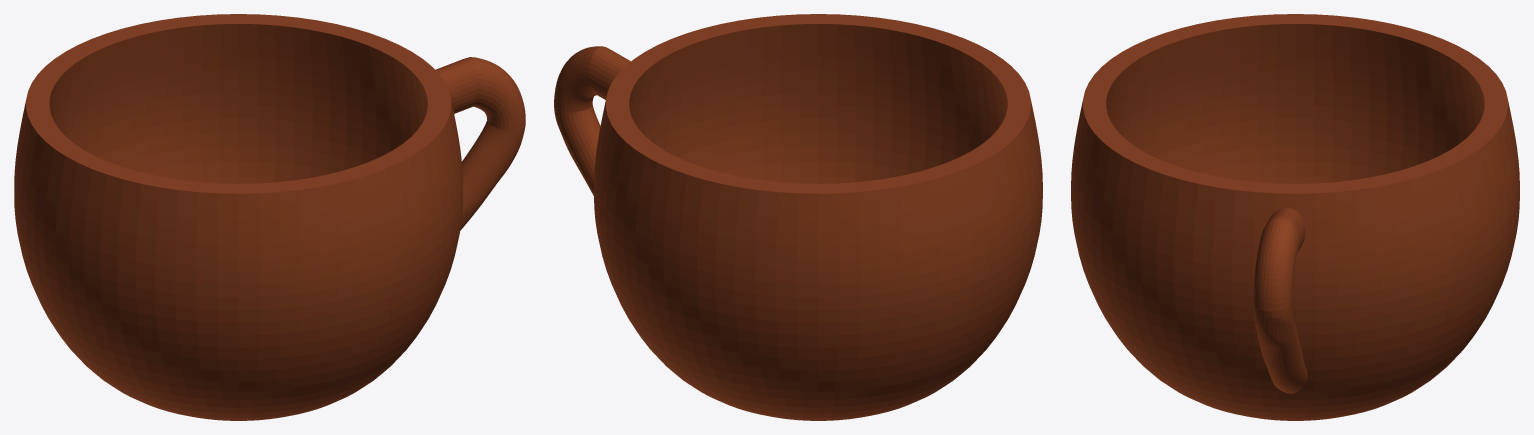
File: cup.glb
3 views of the same model, side by side, from view 1: azimuth 30°, elevation 25°; view 2: azimuth 150°, elevation 25°; view 3: azimuth 270°, elevation 25° (orthographic).
Parts seen in each view (by area): view 1: Tube; view 2: Tube; view 3: Tube.
Boxes of the visible parts, box(x1,y1,x2,y2) form: Tube: box(14, 14, 525, 420); Tube: box(554, 14, 1042, 420); Tube: box(1071, 14, 1519, 420).
Bounding box in the file's own units: 0.5782 × 0.3339 × 0.4806.
